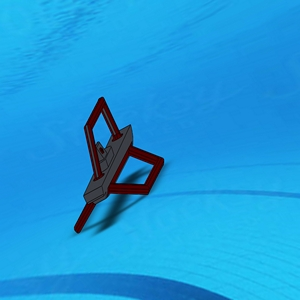submarine: (72, 95, 164, 235)
